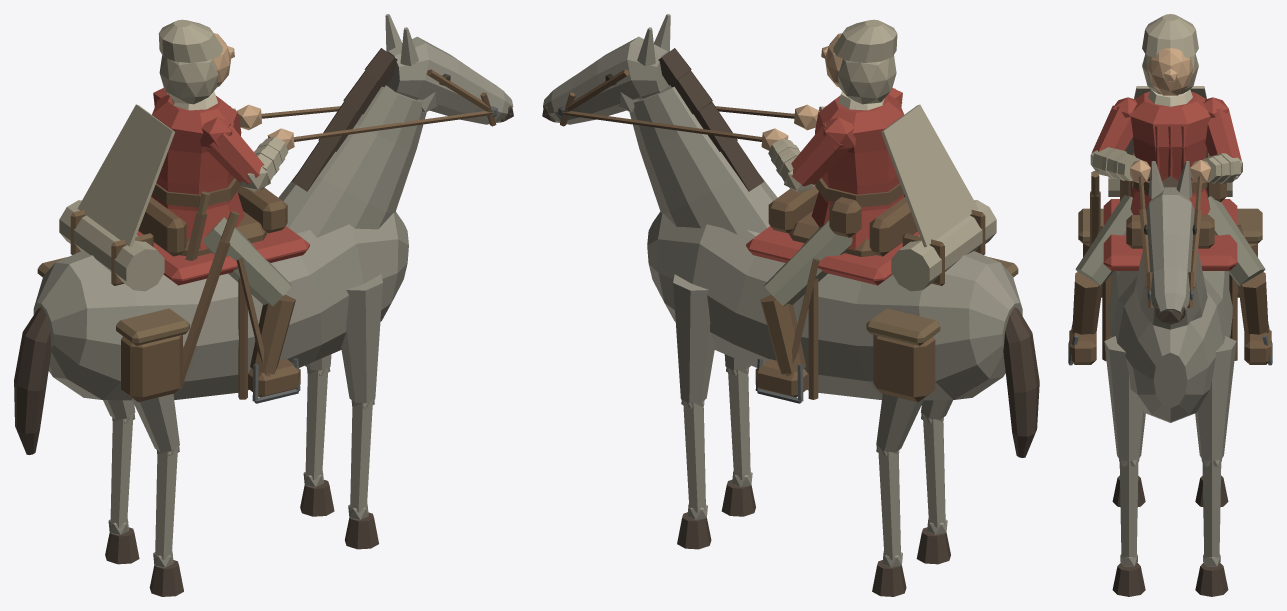
The model's file is cavalry_scout.glb.
3 views of the same model, side by side, from view 1: azimuth 30°, elevation 25°; view 2: azimuth 150°, elevation 25°; view 3: azimuth 270°, elevation 25° (orthographic). The views are drawn at different scales.
Visible parts, largest first — view 1: cavalry_scout_horse, cavalry_scout_leather, cavalry_scout_padded_linen, cavalry_scout_team_cloth, cavalry_scout_mane, cavalry_scout_hose, cavalry_scout_oak_dark, cavalry_scout_skin; view 2: cavalry_scout_horse, cavalry_scout_leather, cavalry_scout_padded_linen, cavalry_scout_team_cloth, cavalry_scout_mane, cavalry_scout_hose, cavalry_scout_oak_dark, cavalry_scout_skin; view 3: cavalry_scout_horse, cavalry_scout_team_cloth, cavalry_scout_leather, cavalry_scout_padded_linen, cavalry_scout_hose, cavalry_scout_mane, cavalry_scout_skin, cavalry_scout_oak_dark, cavalry_scout_linen, cavalry_scout_iron.
Boxes of the visible parts, bbox=[...] form: cavalry_scout_horse: bbox=[33, 14, 513, 567]; cavalry_scout_leather: bbox=[70, 69, 496, 402]; cavalry_scout_padded_linen: bbox=[59, 19, 288, 291]; cavalry_scout_team_cloth: bbox=[137, 88, 309, 285]; cavalry_scout_mane: bbox=[14, 48, 513, 596]; cavalry_scout_hose: bbox=[203, 217, 291, 306]; cavalry_scout_oak_dark: bbox=[37, 191, 239, 345]; cavalry_scout_skin: bbox=[213, 33, 294, 150]; cavalry_scout_horse: bbox=[543, 14, 1022, 567]; cavalry_scout_leather: bbox=[560, 69, 985, 402]; cavalry_scout_padded_linen: bbox=[768, 19, 996, 291]; cavalry_scout_team_cloth: bbox=[746, 88, 919, 285]; cavalry_scout_mane: bbox=[542, 48, 1039, 596]; cavalry_scout_hose: bbox=[764, 220, 852, 306]; cavalry_scout_oak_dark: bbox=[866, 257, 1018, 345]; cavalry_scout_skin: bbox=[761, 33, 842, 150]; cavalry_scout_horse: bbox=[1104, 161, 1236, 566]; cavalry_scout_team_cloth: bbox=[1091, 91, 1241, 270]; cavalry_scout_leather: bbox=[1069, 153, 1271, 364]; cavalry_scout_padded_linen: bbox=[1090, 14, 1242, 196]; cavalry_scout_hose: bbox=[1075, 195, 1265, 286]; cavalry_scout_mane: bbox=[1112, 176, 1228, 596]; cavalry_scout_skin: bbox=[1130, 48, 1210, 182]; cavalry_scout_oak_dark: bbox=[1078, 171, 1262, 243]; cavalry_scout_linen: bbox=[1148, 89, 1192, 106]; cavalry_scout_iron: bbox=[1068, 289, 1272, 365].
Size of the model in its own units: 2.81 by 2.94 by 1.09.
